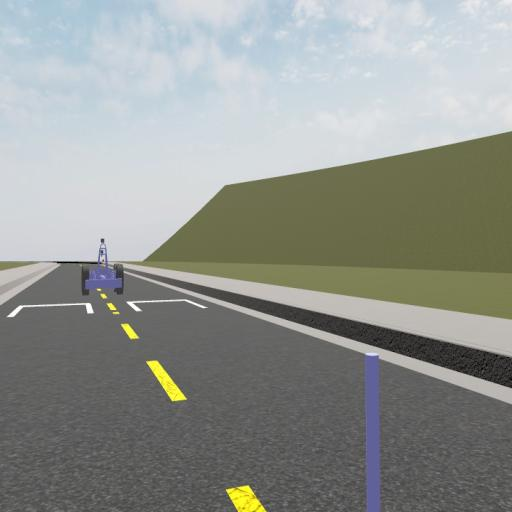ERP-42: (81, 240, 124, 294)
